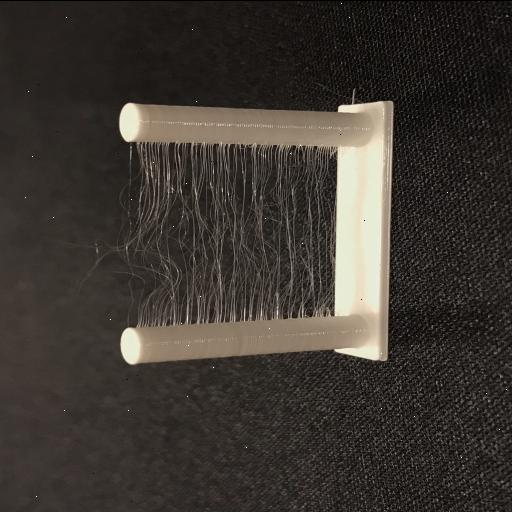stringing: (128, 142, 368, 324)
